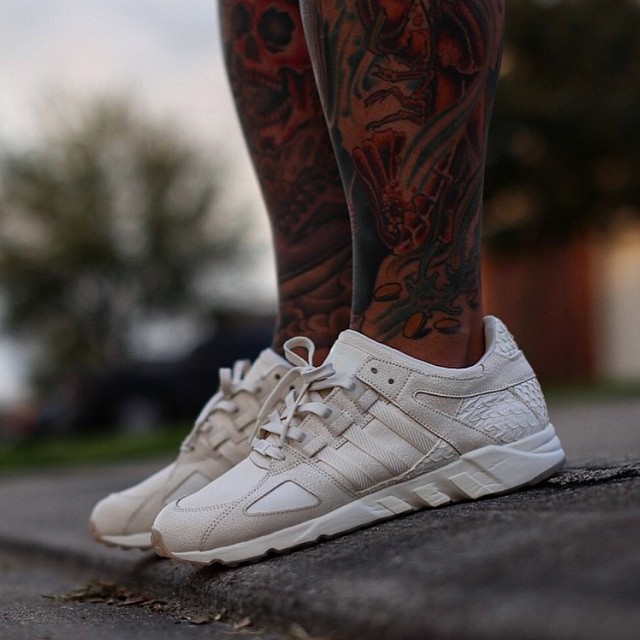sneaker: (136, 307, 593, 587), (85, 328, 335, 564)
